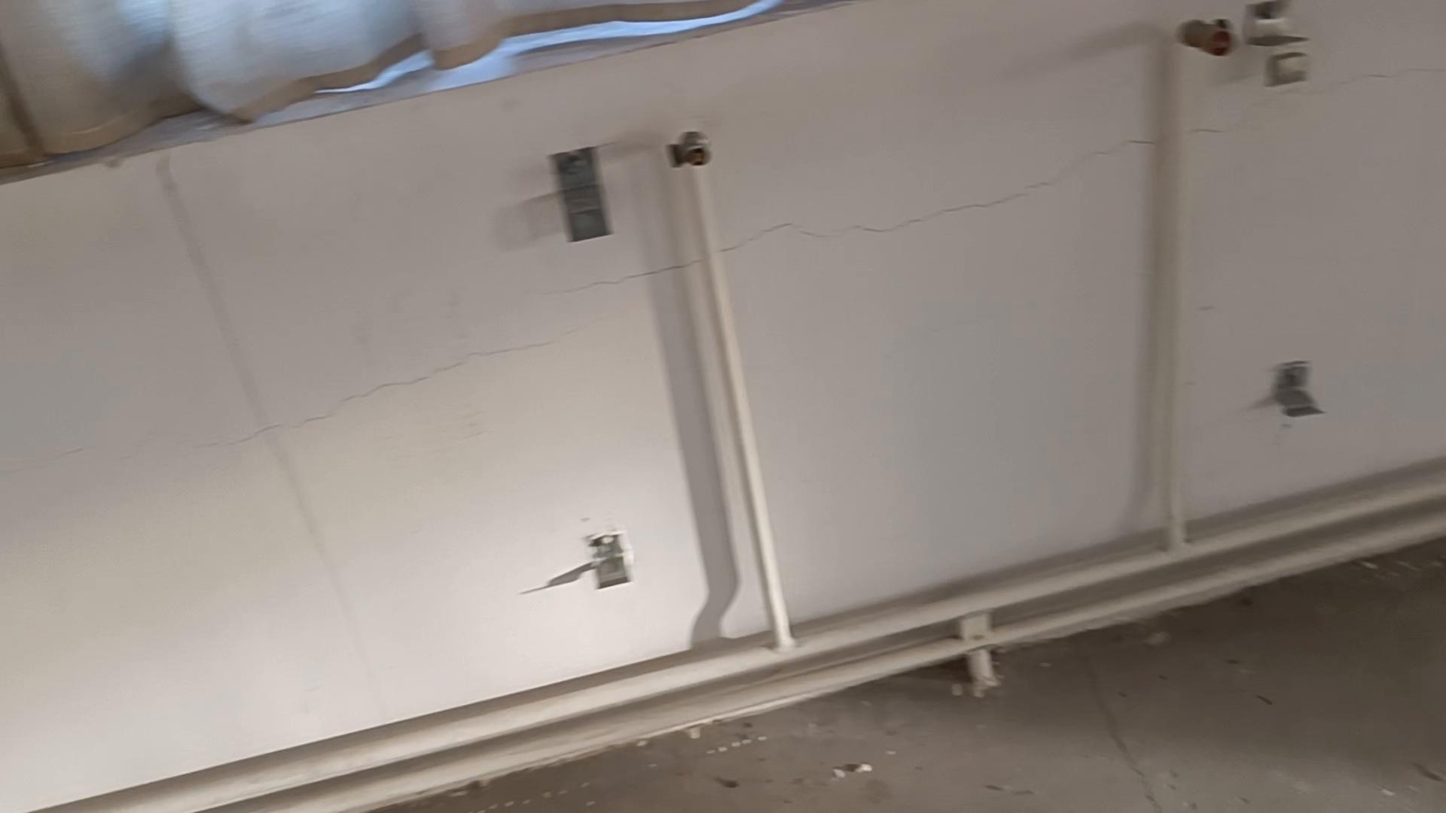floor: (383, 540, 1445, 812)
wall: (6, 1, 1445, 812)
